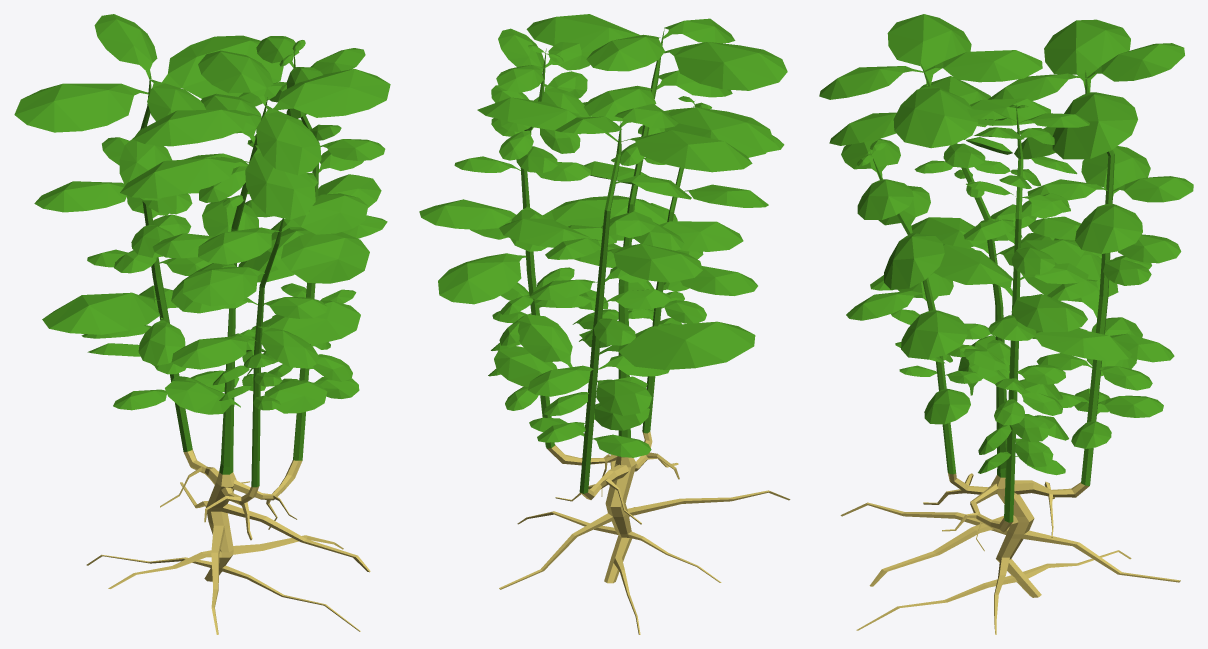
Rendered from basil_2.glb.
3 renders of one model, left to right at view 1: azimuth 30°, elevation 25°; view 2: azimuth 150°, elevation 25°; view 3: azimuth 270°, elevation 25°, orthographic. The views are drawn at different scales.
Parts seen in each view (by area): view 1: 2; view 2: 2; view 3: 2.
Part boxes in pixels (<box>): 2: <box>14,14,390,634</box>; 2: <box>419,14,790,634</box>; 2: <box>819,14,1193,634</box>.
Size of the model in its own units: 7.96 by 11.88 by 7.33.
1 material, 1 textured.
